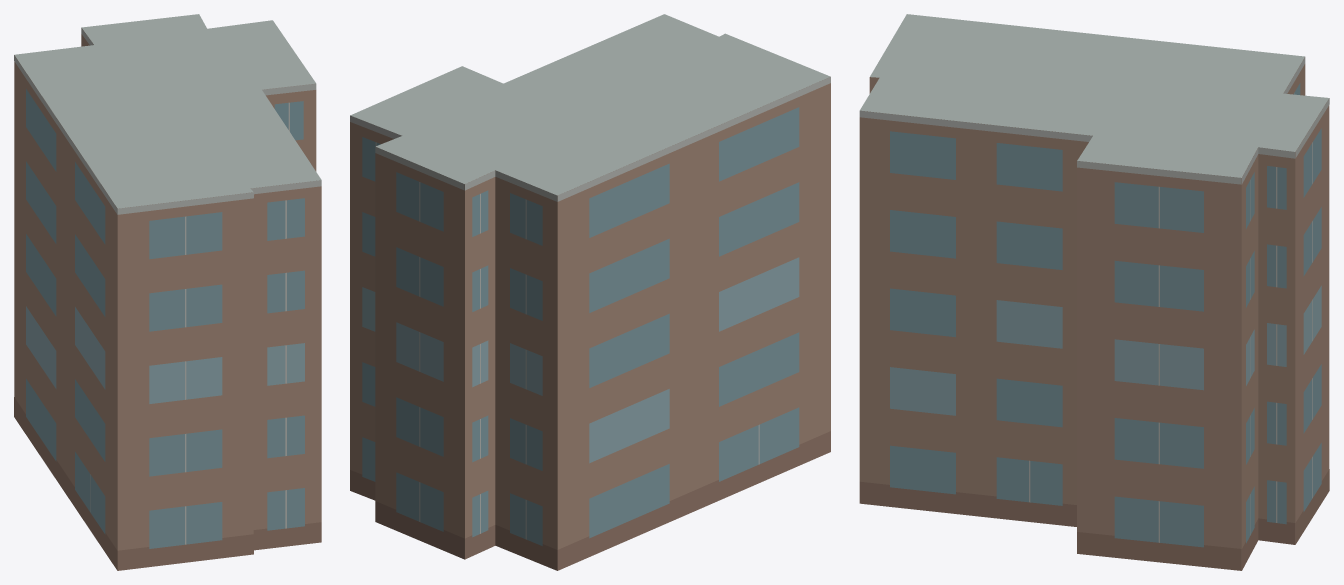
File: survey-upis-32652357.glb
3 renders of one model, left to right at view 1: azimuth 30°, elevation 25°; view 2: azimuth 150°, elevation 25°; view 3: azimuth 270°, elevation 25°, orthographic. The views are drawn at different scales.
Parts seen in each view (by area): view 1: survey-upis-32652357.tmp; view 2: survey-upis-32652357.tmp; view 3: survey-upis-32652357.tmp.
Part boxes in pixels (x1,y1,x2,y2): survey-upis-32652357.tmp: [14, 14, 321, 570]; survey-upis-32652357.tmp: [350, 14, 830, 570]; survey-upis-32652357.tmp: [859, 14, 1329, 570].
Size of the model in its own units: 12.8 by 14.3 by 15.5.
